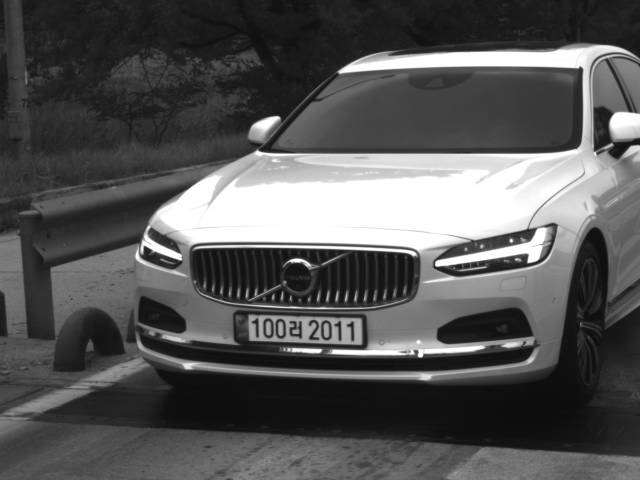car: (128, 38, 639, 404)
plate: (233, 310, 369, 348)
